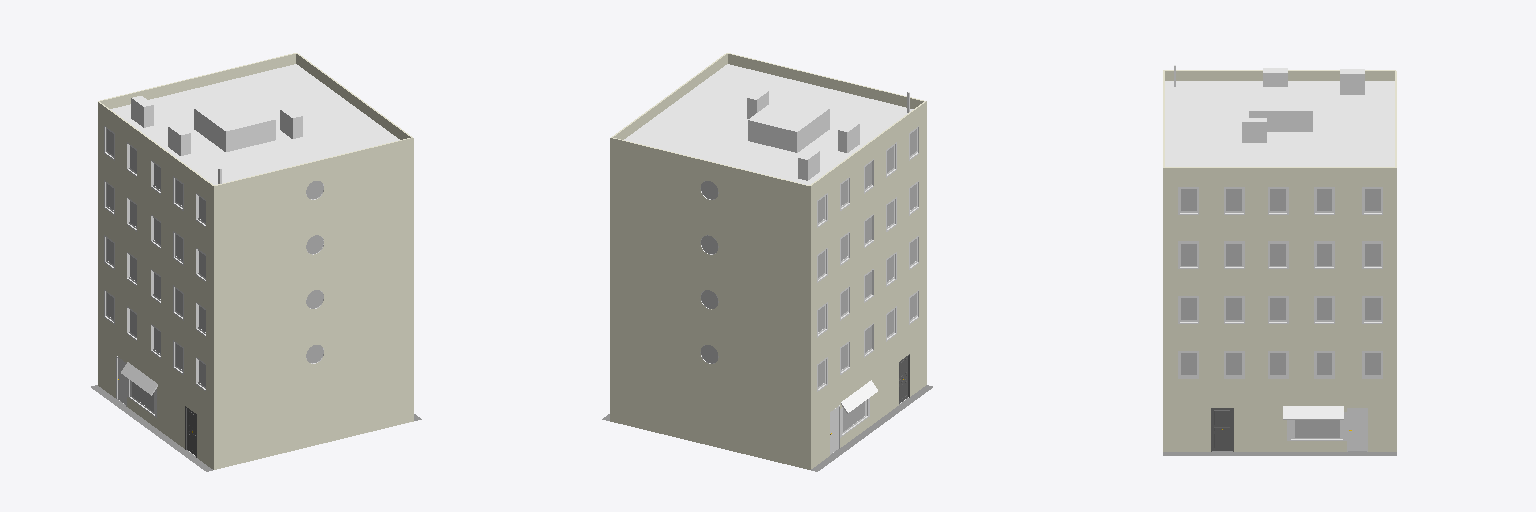
File: building3.obj
3 renders of one model, left to right at view 1: azimuth 30°, elevation 25°; view 2: azimuth 150°, elevation 25°; view 3: azimuth 270°, elevation 25°, orthographic.
Visible parts, largest first — view 1: room_29_150, wall_6_35, wall_2_11, wall_10_59, wall_22_131, wall_14_83, wall_1_5, wall_9_53, wall_21_125, wall_5_29, wall_13_77, wall_18_107 (+7 smaller); view 2: room_29_150, wall_4_23, wall_8_47, wall_12_71, wall_24_143, wall_16_95, wall_1_5, wall_5_29, wall_21_125, wall_9_53, wall_13_77, wall_20_119 (+7 smaller); view 3: room_29_150, wall_7_41, wall_11_65, wall_3_17, wall_23_137, wall_15_89, wall_19_113, wall_17_100, top_447, right_449, ground_1, sweethome3d_opening_on_hinge_1_doorOutside_433 (+5 smaller).
Part boxes in pixels (left/top/right/bottom): room_29_150: left=110, top=64, right=399, bottom=184; wall_6_35: left=214, top=260, right=413, bottom=362; wall_2_11: left=214, top=315, right=413, bottom=417; wall_10_59: left=214, top=205, right=413, bottom=308; wall_22_131: left=214, top=151, right=413, bottom=253; wall_14_83: left=214, top=369, right=413, bottom=469; wall_1_5: left=98, top=279, right=213, bottom=417; wall_9_53: left=98, top=170, right=213, bottom=308; wall_21_125: left=98, top=115, right=213, bottom=253; wall_5_29: left=98, top=224, right=213, bottom=362; wall_13_77: left=98, top=334, right=213, bottom=469; wall_18_107: left=214, top=138, right=413, bottom=198; room_29_150: left=624, top=64, right=913, bottom=184; wall_4_23: left=610, top=315, right=809, bottom=417; wall_8_47: left=610, top=260, right=809, bottom=362; wall_12_71: left=610, top=205, right=809, bottom=308; wall_24_143: left=610, top=151, right=809, bottom=253; wall_16_95: left=610, top=369, right=809, bottom=469; wall_1_5: left=810, top=278, right=926, bottom=417; wall_5_29: left=810, top=224, right=926, bottom=362; wall_21_125: left=810, top=114, right=926, bottom=253; wall_9_53: left=810, top=169, right=926, bottom=307; wall_13_77: left=810, top=333, right=926, bottom=469; wall_20_119: left=610, top=138, right=809, bottom=198; room_29_150: left=1165, top=81, right=1394, bottom=166; wall_7_41: left=1163, top=290, right=1396, bottom=344; wall_11_65: left=1163, top=235, right=1396, bottom=289; wall_3_17: left=1163, top=345, right=1396, bottom=398; wall_23_137: left=1163, top=181, right=1396, bottom=234; wall_15_89: left=1163, top=399, right=1396, bottom=451; wall_19_113: left=1163, top=168, right=1396, bottom=180; wall_17_100: left=1165, top=71, right=1394, bottom=80; top_447: left=1249, top=87, right=1312, bottom=110; right_449: left=1249, top=111, right=1312, bottom=131; ground_1: left=1163, top=451, right=1396, bottom=455; sweethome3d_opening_on_hinge_1_doorOutside_433: left=1212, top=409, right=1232, bottom=450.
Size of the model in its own units: 1083 by 1410 by 1013.